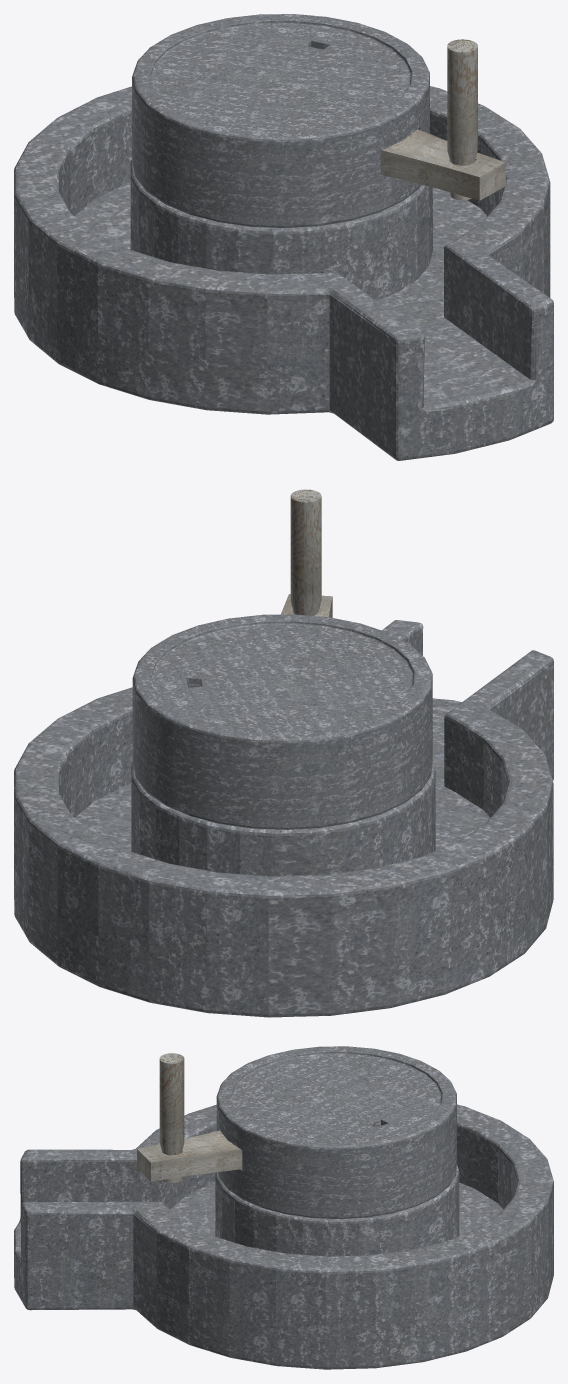
File: shimo_2.glb
3 views of the same model, one above another, from view 1: azimuth 30°, elevation 25°; view 2: azimuth 150°, elevation 25°; view 3: azimuth 270°, elevation 25° (orthographic). The views are drawn at different scales.
Visible parts, largest first — view 1: Asset3DLoader.sceneRoot; view 2: Asset3DLoader.sceneRoot; view 3: Asset3DLoader.sceneRoot.
Boxes of the visible parts, <box> form: Asset3DLoader.sceneRoot: <box>14,14,553,460</box>; Asset3DLoader.sceneRoot: <box>14,489,553,1017</box>; Asset3DLoader.sceneRoot: <box>14,1046,553,1369</box>.
Bounding box in the file's own units: 118 × 76.51 × 147.
Materials: 3 (2 with a texture image).
